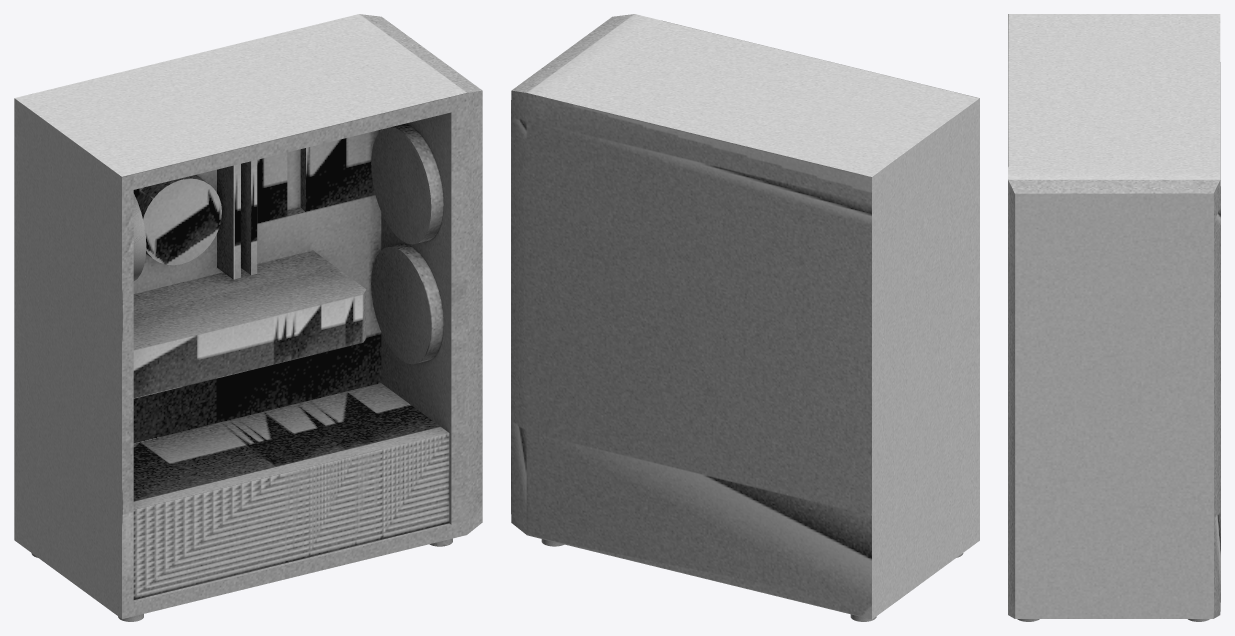
3 renders of one model, left to right at view 1: azimuth 30°, elevation 25°; view 2: azimuth 150°, elevation 25°; view 3: azimuth 270°, elevation 25°, orthographic.
Visible parts, largest first — view 1: dupe; view 2: dupe; view 3: dupe.
Part boxes in pixels (x1,y1,x2,y2): dupe: (14, 14, 482, 621); dupe: (511, 14, 979, 621); dupe: (1008, 14, 1220, 621).
Bounding box in the file's own units: 46.66 × 55.34 × 23.99.
